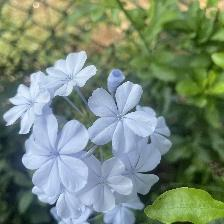chitrak: (22, 118, 91, 194), (90, 82, 159, 151), (77, 155, 134, 212), (100, 145, 162, 196), (43, 48, 101, 98), (3, 79, 52, 132), (133, 120, 181, 155), (101, 192, 147, 224), (51, 194, 92, 224)
